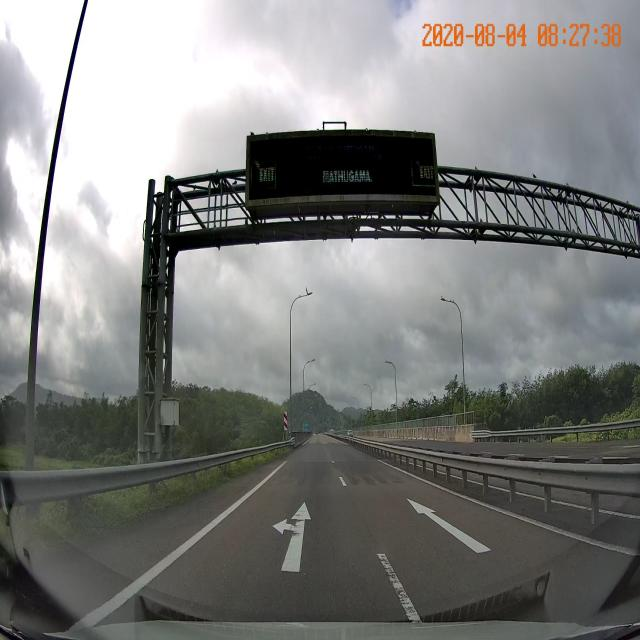forward_lft: (162, 486, 414, 600)
